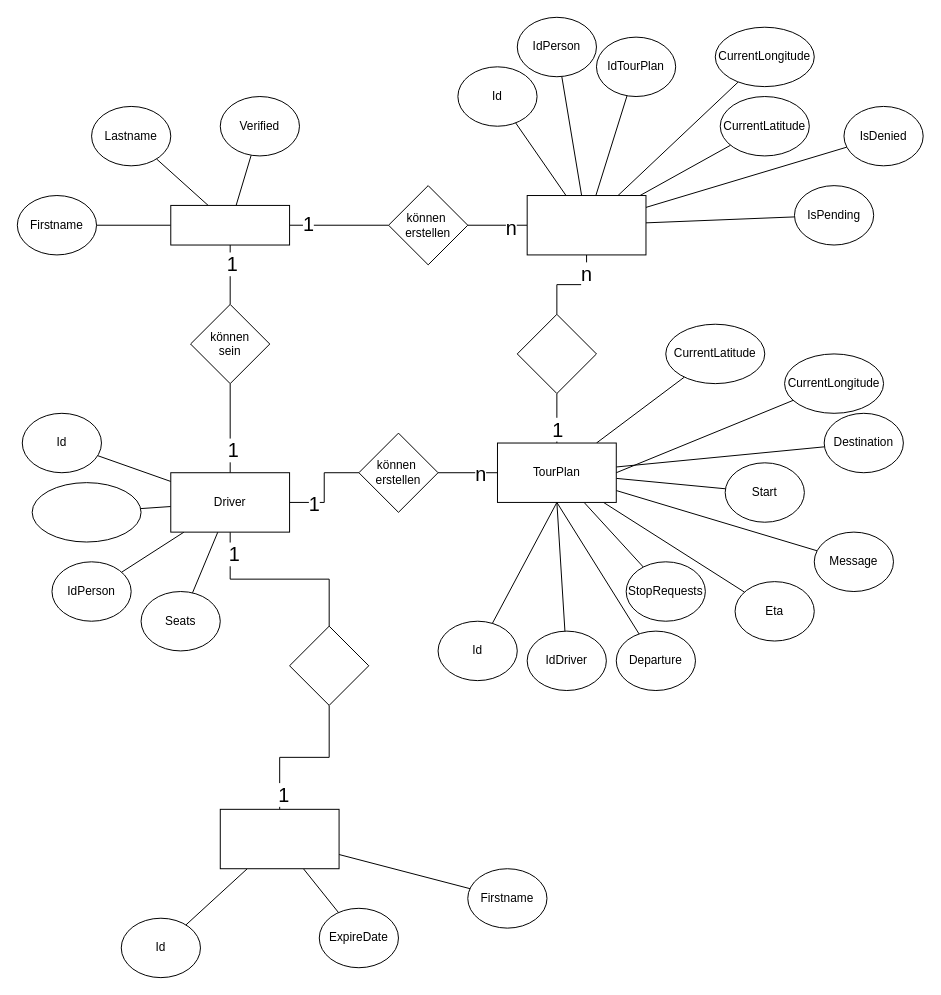
Image size: 941x995. Some labels were removed from this diagram. Each missing label, with the box of its shape:
DrivingLicence: (219, 808, 339, 869)
haben: (289, 625, 369, 705)
IdDrivingLicence: (31, 482, 141, 542)
können erhalten: (516, 313, 596, 394)
PassengerRequest: (526, 195, 646, 255)
Person: (170, 204, 290, 245)
